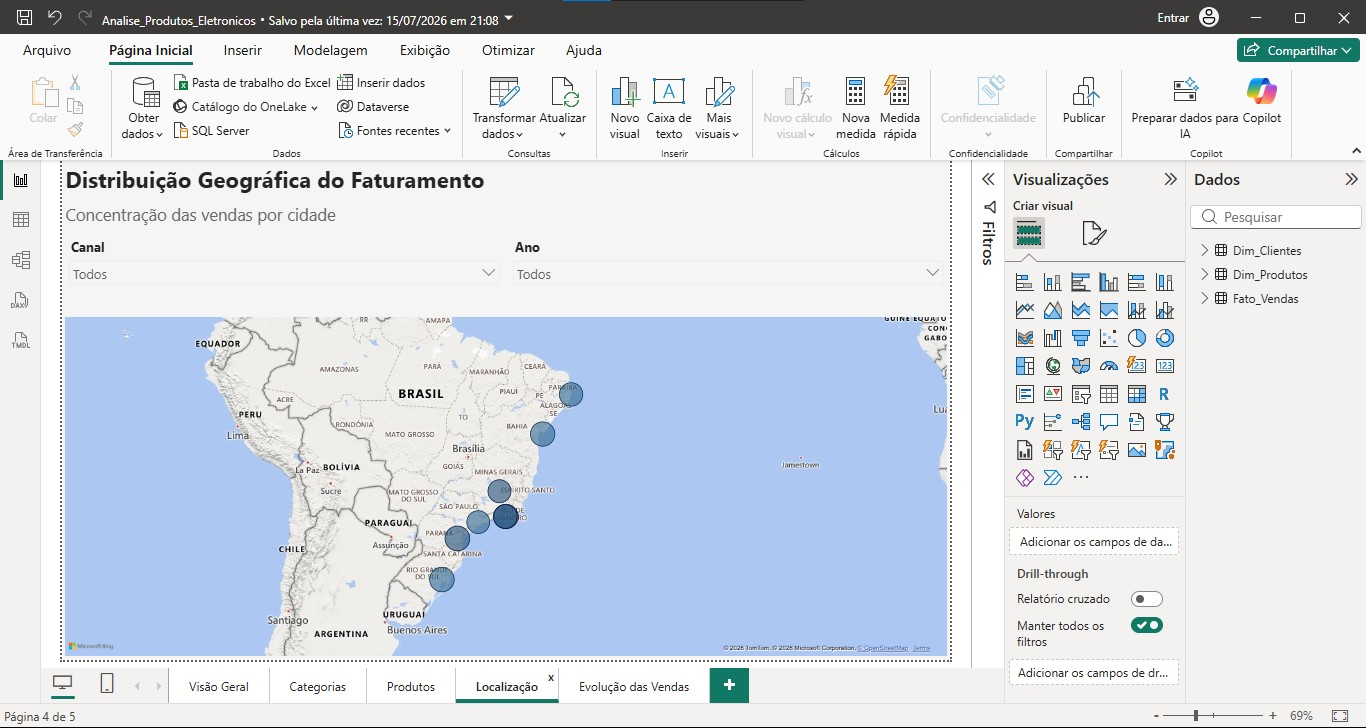

The dashboard page shown, as its layout file describes it:
{"tool":"powerbi","page":{"name":"Localização","canvas":[1280,720],"ordinal":3},"visuals":[{"type":"barChart","title":" Total por Cidade","fields":{"Category":["Fato_Vendas.Cidade"],"Y":["Sum(Fato_Vendas.Valor_Total)"]},"box":[0,180,884.3,540],"z":0},{"type":"textbox","box":[0,0,1010.1,70.7],"z":1000},{"type":"textbox","box":[0,55.7,694.3,54.3],"z":2000},{"type":"slicer","fields":{"Values":["Fato_Vendas.Data_Venda.Variation.Hierarquia de datas.Ano"]},"box":[241.4,110,241.4,92.9],"z":3000},{"type":"slicer","fields":{"Values":["Fato_Vendas.Canal_Venda"]},"box":[0,110,241.4,92.9],"z":4000}]}

Visuals, with their boxes on the page's 1280x720 design canvas (x1, y1, x2, y2). These are canvas units, not pixel positions in the 1366x728 screenshot, which may show the page scaled, cropped or inside an application window:
" Total por Cidade" barChart: {"x1": 0, "y1": 180, "x2": 884, "y2": 720}
textbox: {"x1": 0, "y1": 0, "x2": 1010, "y2": 71}
textbox: {"x1": 0, "y1": 56, "x2": 694, "y2": 110}
slicer - Fato_Vendas.Data_Venda.Variation.Hierarquia de datas.Ano: {"x1": 241, "y1": 110, "x2": 483, "y2": 203}
slicer - Fato_Vendas.Canal_Venda: {"x1": 0, "y1": 110, "x2": 241, "y2": 203}
